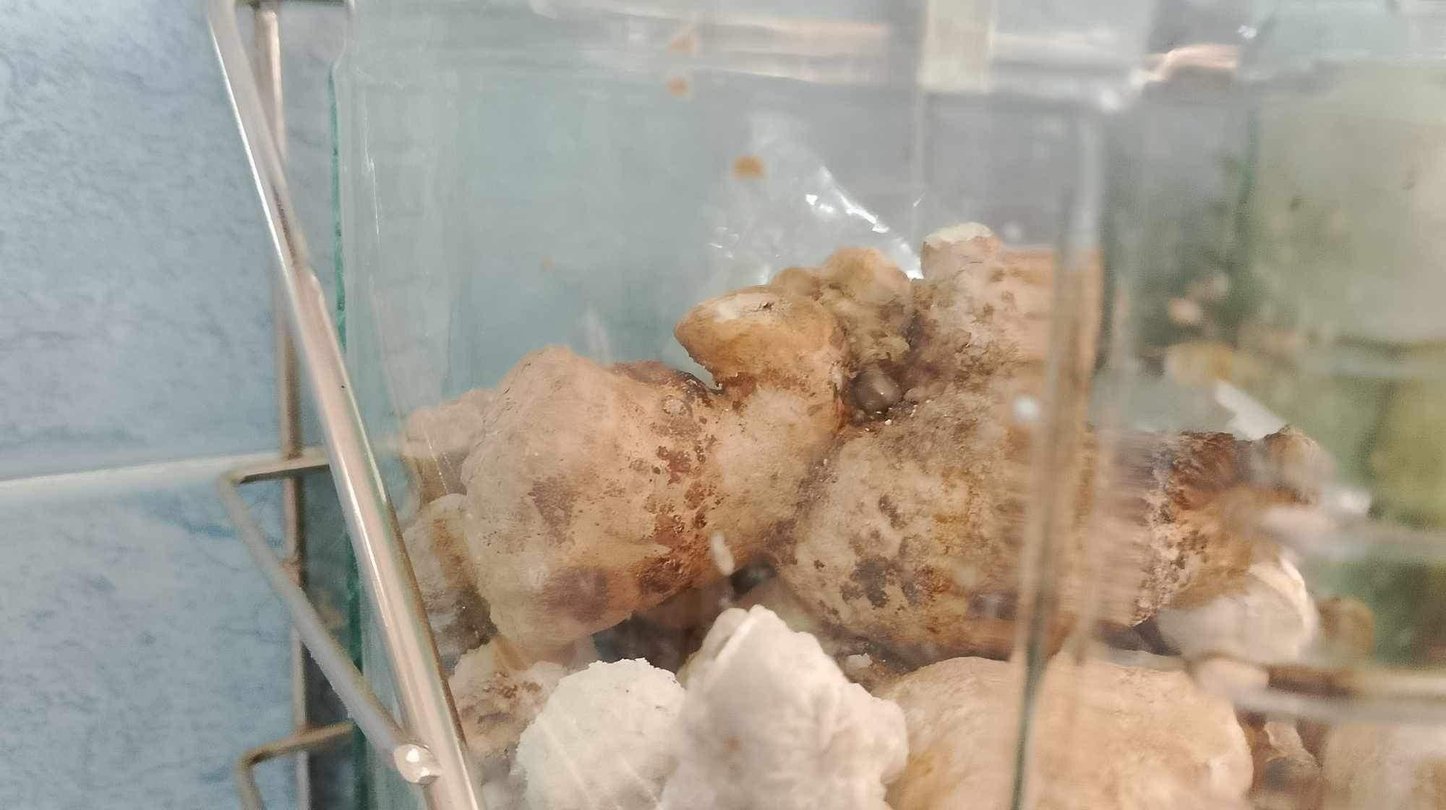General: (194, 4, 1435, 806)
Pathological: (393, 219, 1337, 684)
Sharps: (202, 1, 484, 806), (998, 99, 1114, 806)
